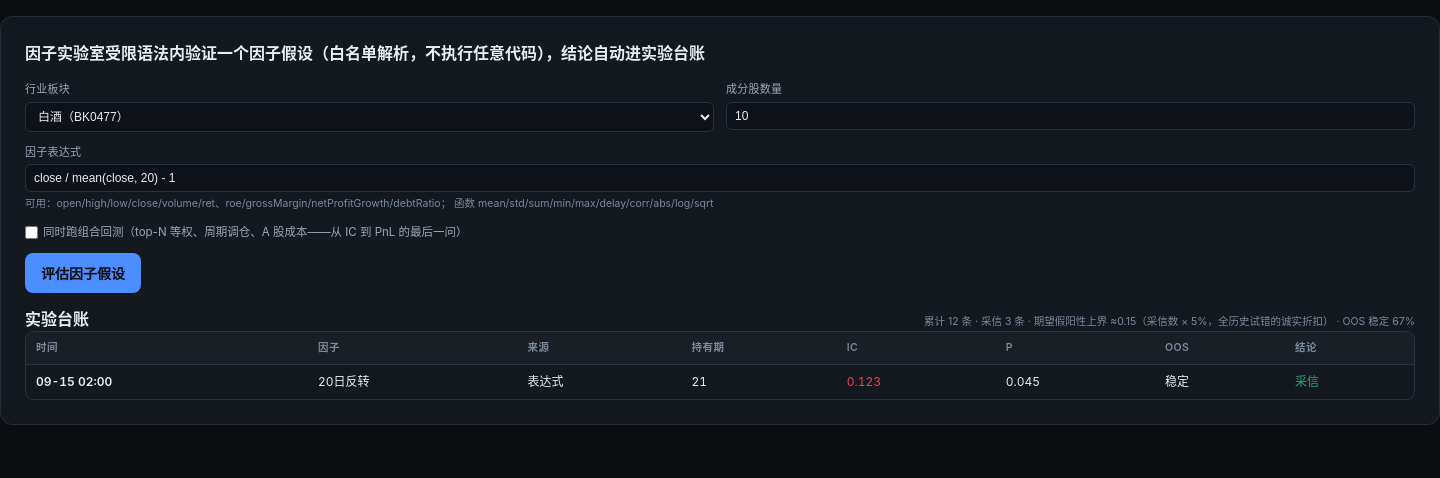
Test case: FactorLabPanel —— 首次加载与可提交性 › 切换板块后提交：请求按新选中的板块发出，而不是默认板块
Select "煤炭（BK0478）" in the dropdown: (370, 116) [25,102,714,132]
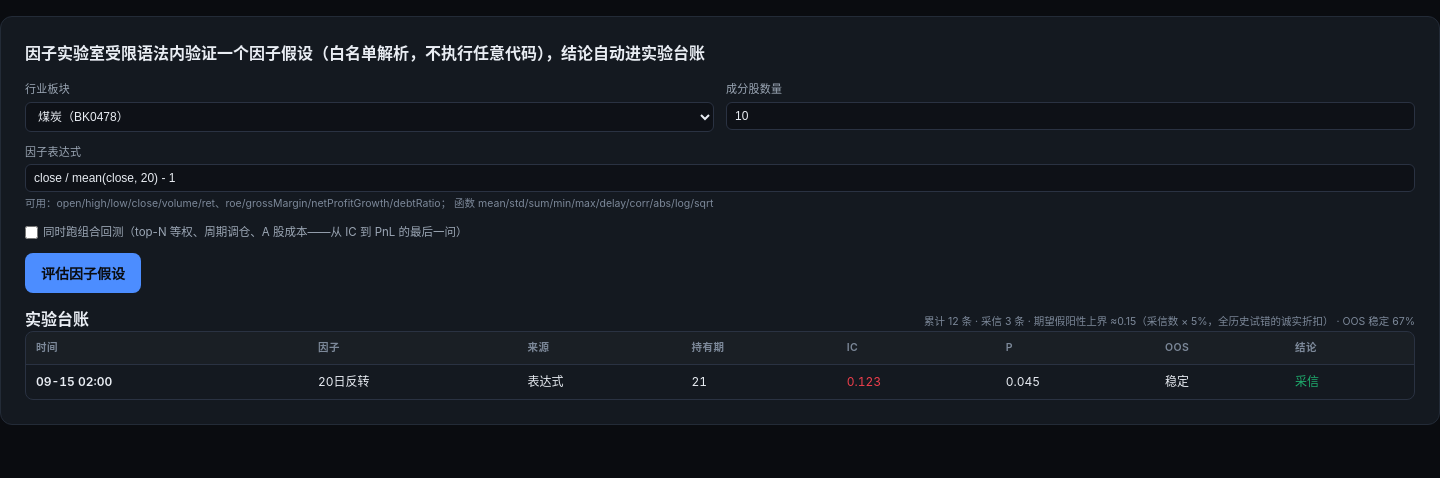
Click the button "评估因子假设": (83, 273) [25,253,141,293]
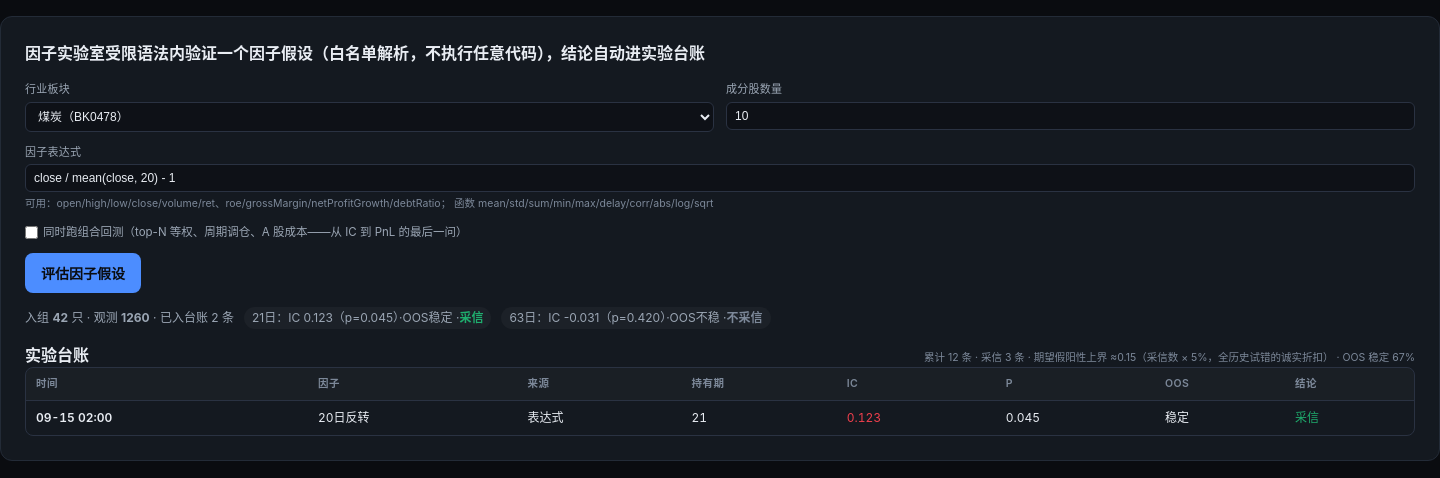
Now the text "已入台账" is shown, box [150,310,211,325]
